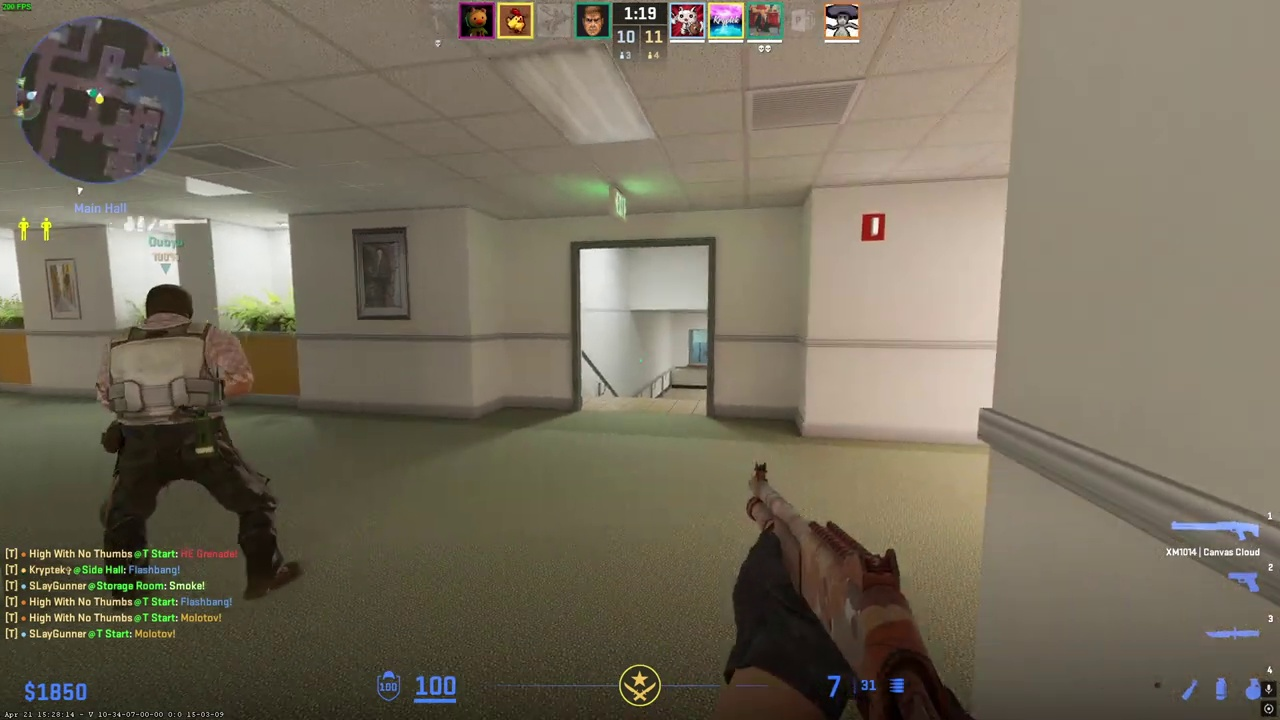Terrorist: (79, 282, 303, 603)
